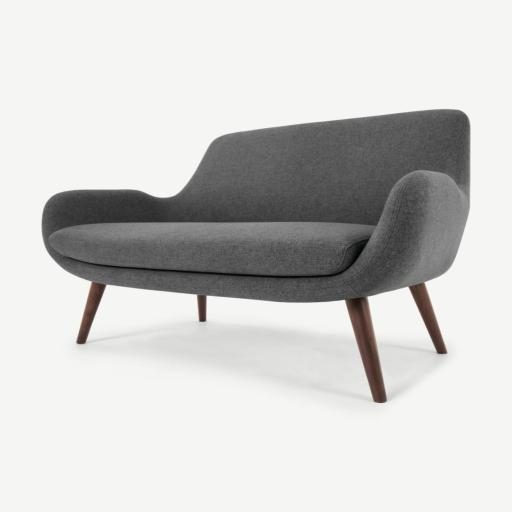back_cushion: (180, 111, 466, 225)
base: (58, 258, 379, 302)
left_arm: (293, 170, 468, 301)
legs: (346, 298, 386, 402), (411, 283, 445, 353), (76, 282, 105, 343), (198, 295, 207, 321)
one-seater: (42, 109, 470, 402)
right_arm: (42, 190, 176, 269)
seat_cushion: (50, 222, 374, 277)
